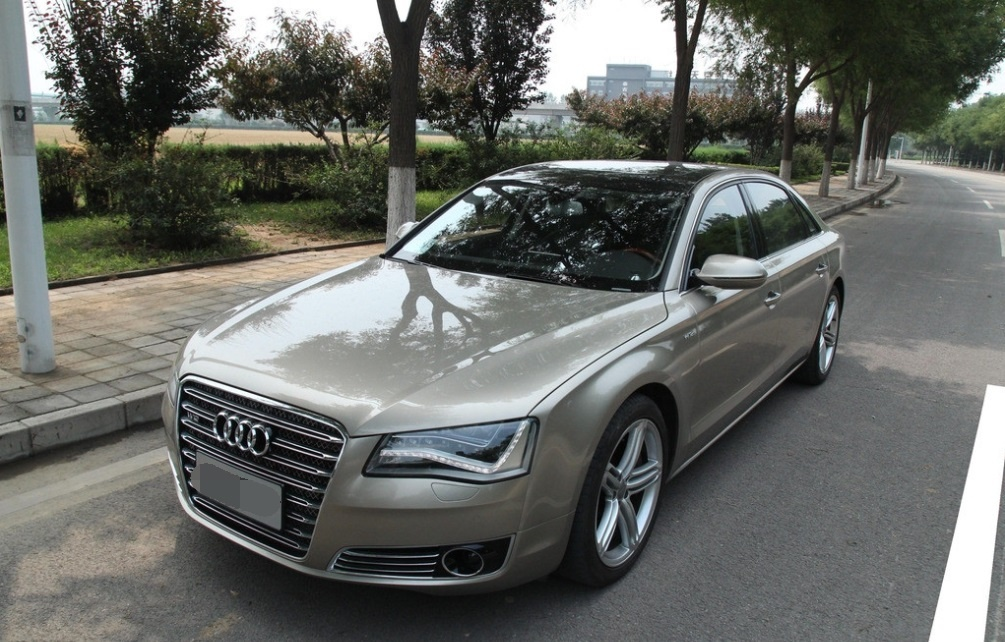family sedan: (156, 134, 861, 593)
